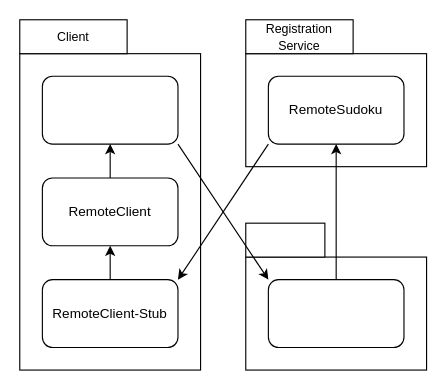
Some shapes in this 446 by 390 pixel diagram are drawn without their labels. Each missing label, with the centre of its shape:
Controller: pixel 109 109
RemoteSudoku-Stub: pixel 335 313
RMI Registry: pixel 285 239
